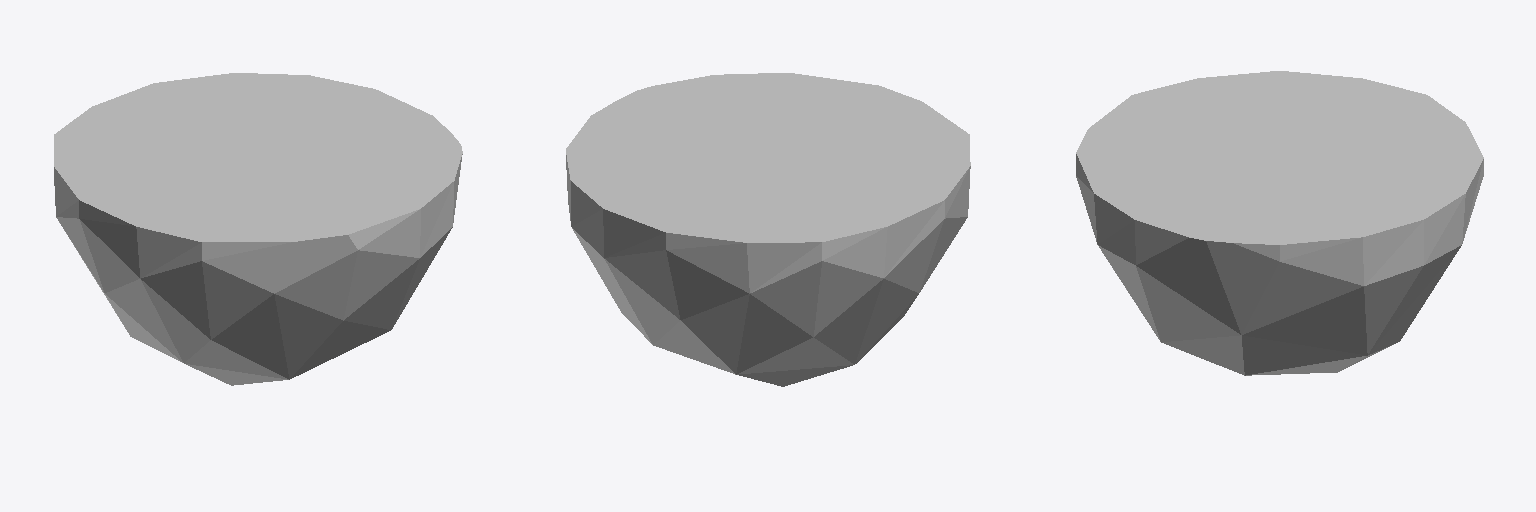
The model's file is apple_bottom.obj.
3 views of the same model, side by side, from view 1: azimuth 30°, elevation 25°; view 2: azimuth 150°, elevation 25°; view 3: azimuth 270°, elevation 25° (orthographic).
Visible parts, largest first — view 1: apple_bottom; view 2: apple_bottom; view 3: apple_bottom.
Part boxes in pixels (x1,y1,x2,y2): apple_bottom: (54, 73, 462, 385); apple_bottom: (566, 73, 970, 386); apple_bottom: (1076, 71, 1483, 375).
Size of the model in its own units: 1.52 by 0.8142 by 1.52.